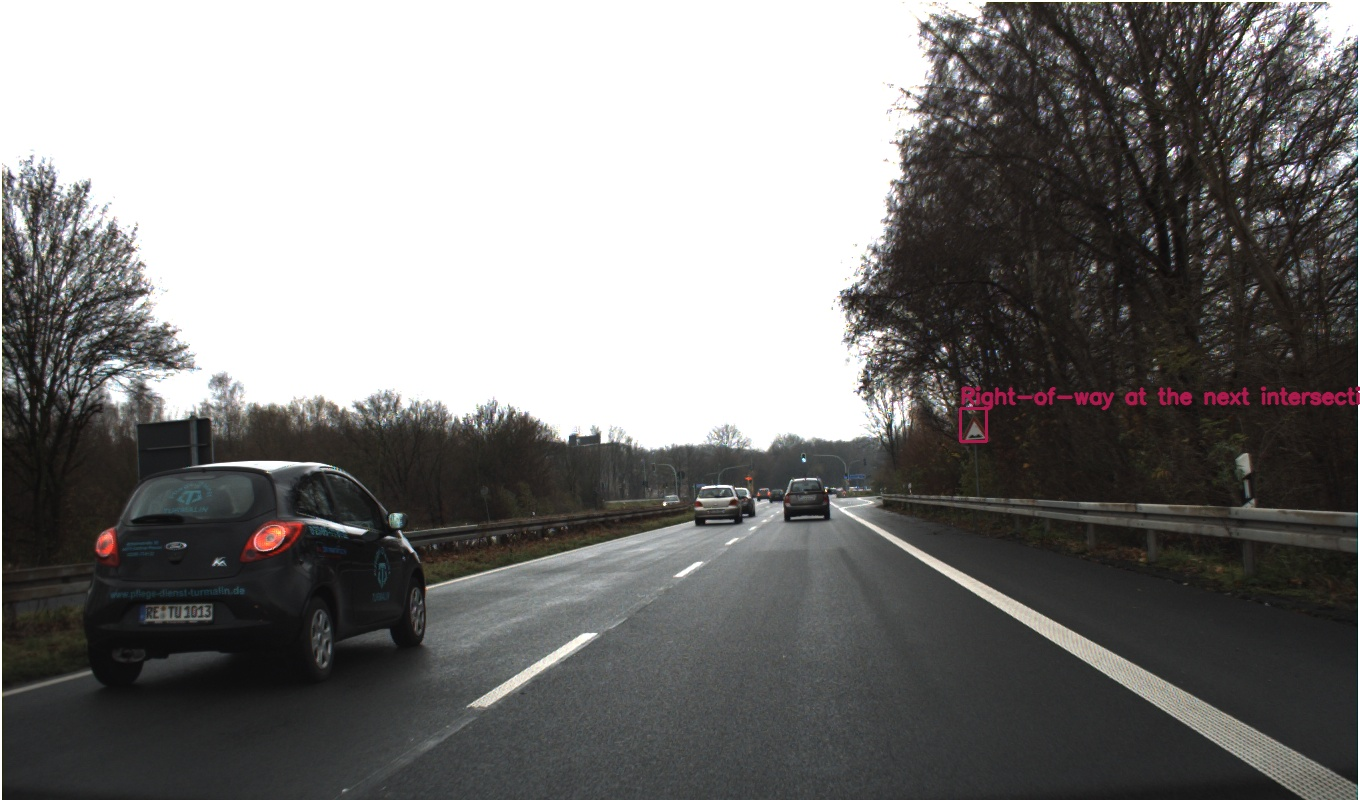No passing for vehicles over 3.5 metric tons: (851, 438, 874, 461), (477, 442, 499, 464)
